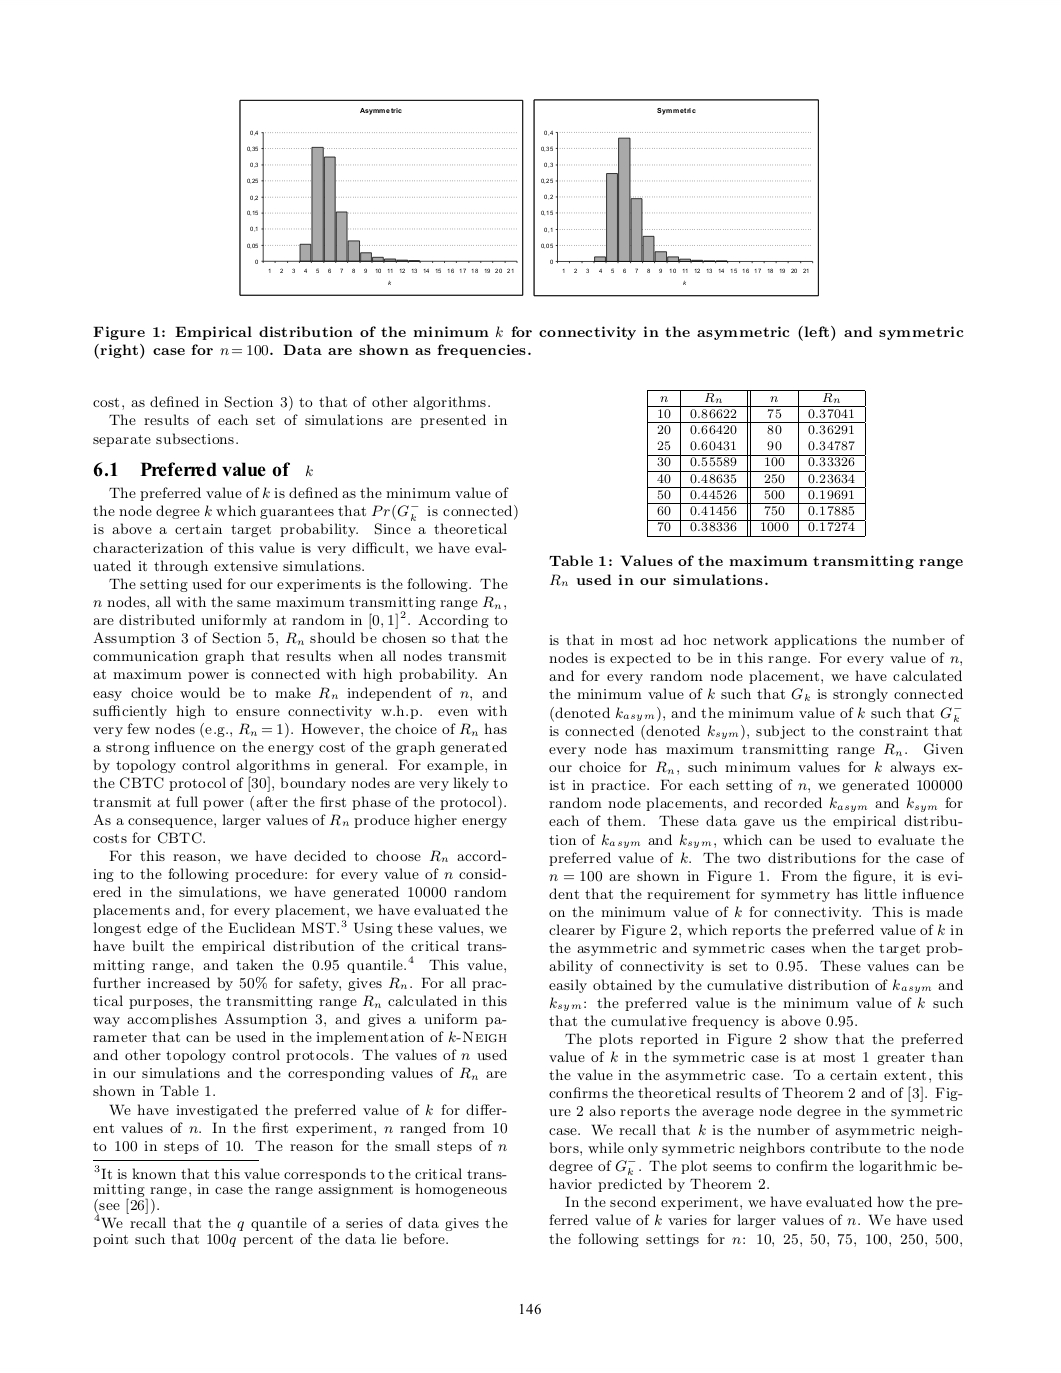Table: (648, 389, 865, 537)
figure: (533, 99, 818, 296), (239, 99, 523, 295)
